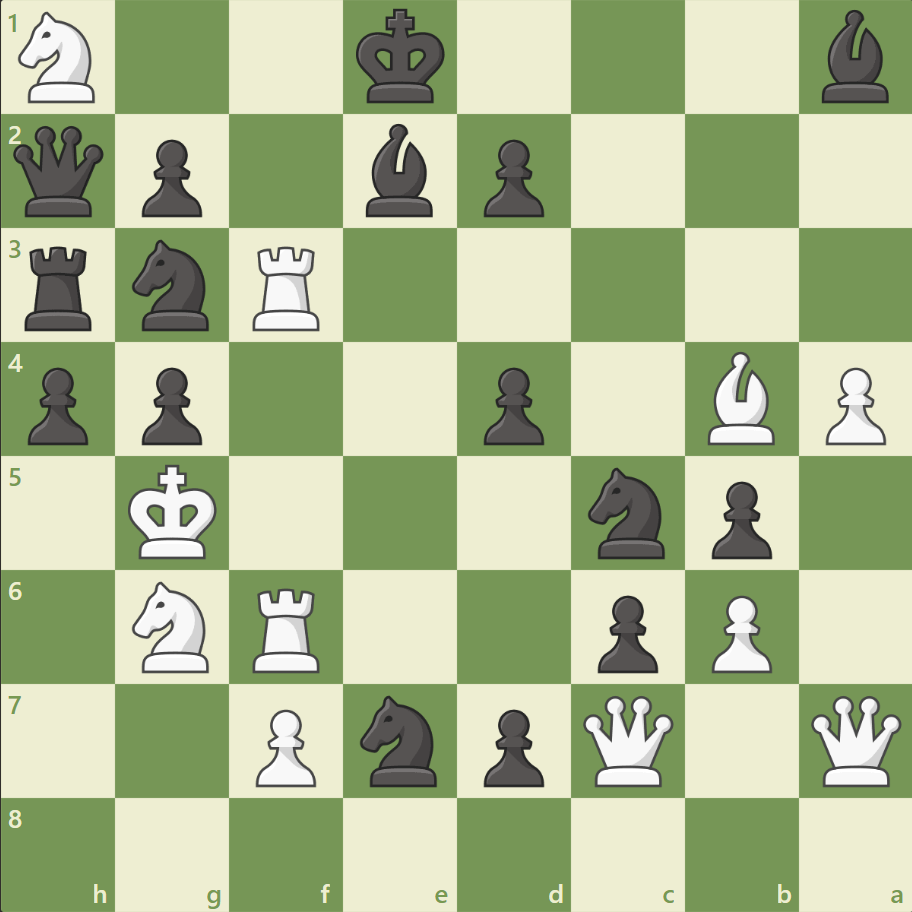B: (698, 347, 782, 449)
K: (124, 458, 224, 566)
N: (124, 575, 222, 677), (11, 7, 108, 110)
P: (247, 700, 322, 791), (701, 586, 776, 677), (815, 359, 889, 450)
Q: (805, 690, 904, 789), (578, 690, 677, 789)
R: (246, 579, 329, 676), (246, 239, 329, 336)
b: (812, 6, 896, 109), (358, 120, 442, 222)
k: (351, 4, 451, 112)
n: (351, 688, 449, 791), (124, 234, 222, 337), (579, 461, 676, 564)
p: (474, 700, 549, 791), (701, 473, 776, 564), (474, 359, 549, 450), (133, 359, 208, 450), (20, 359, 95, 450), (474, 132, 549, 223), (133, 132, 208, 223), (588, 586, 662, 677)
q: (10, 122, 109, 222)
r: (19, 239, 102, 336)
